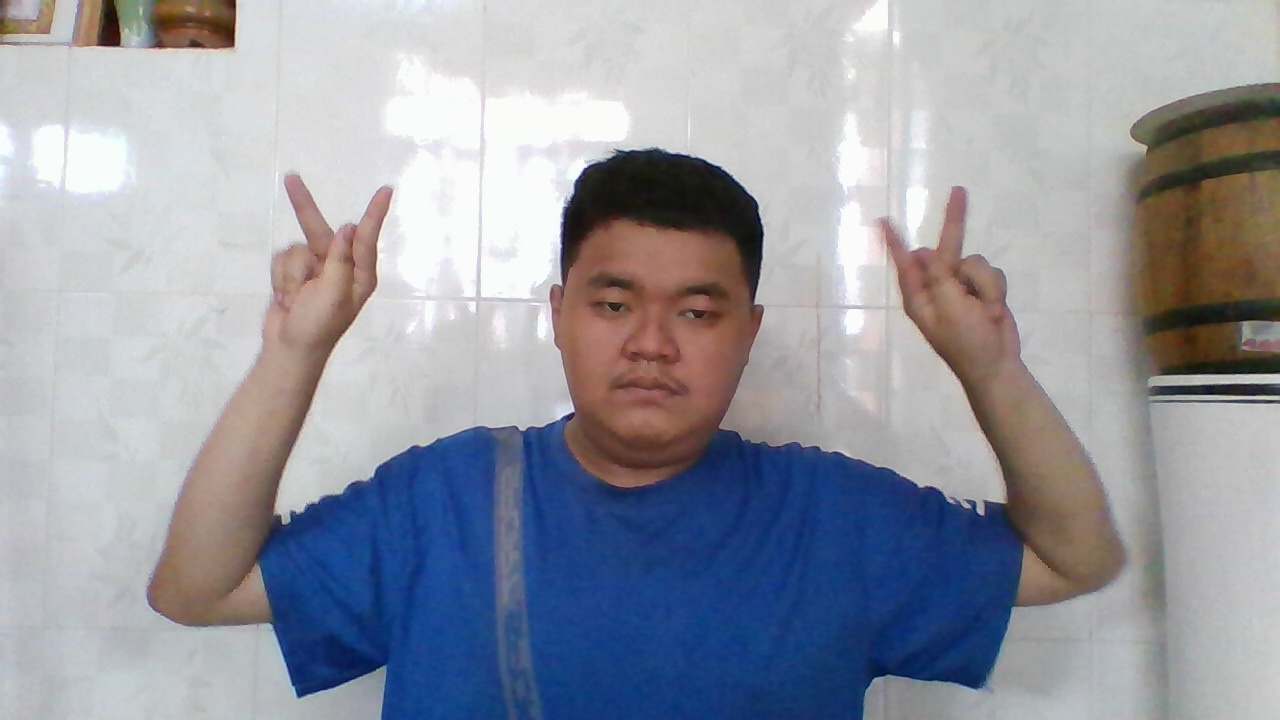K: (866, 177, 1017, 378), (255, 162, 398, 361)
